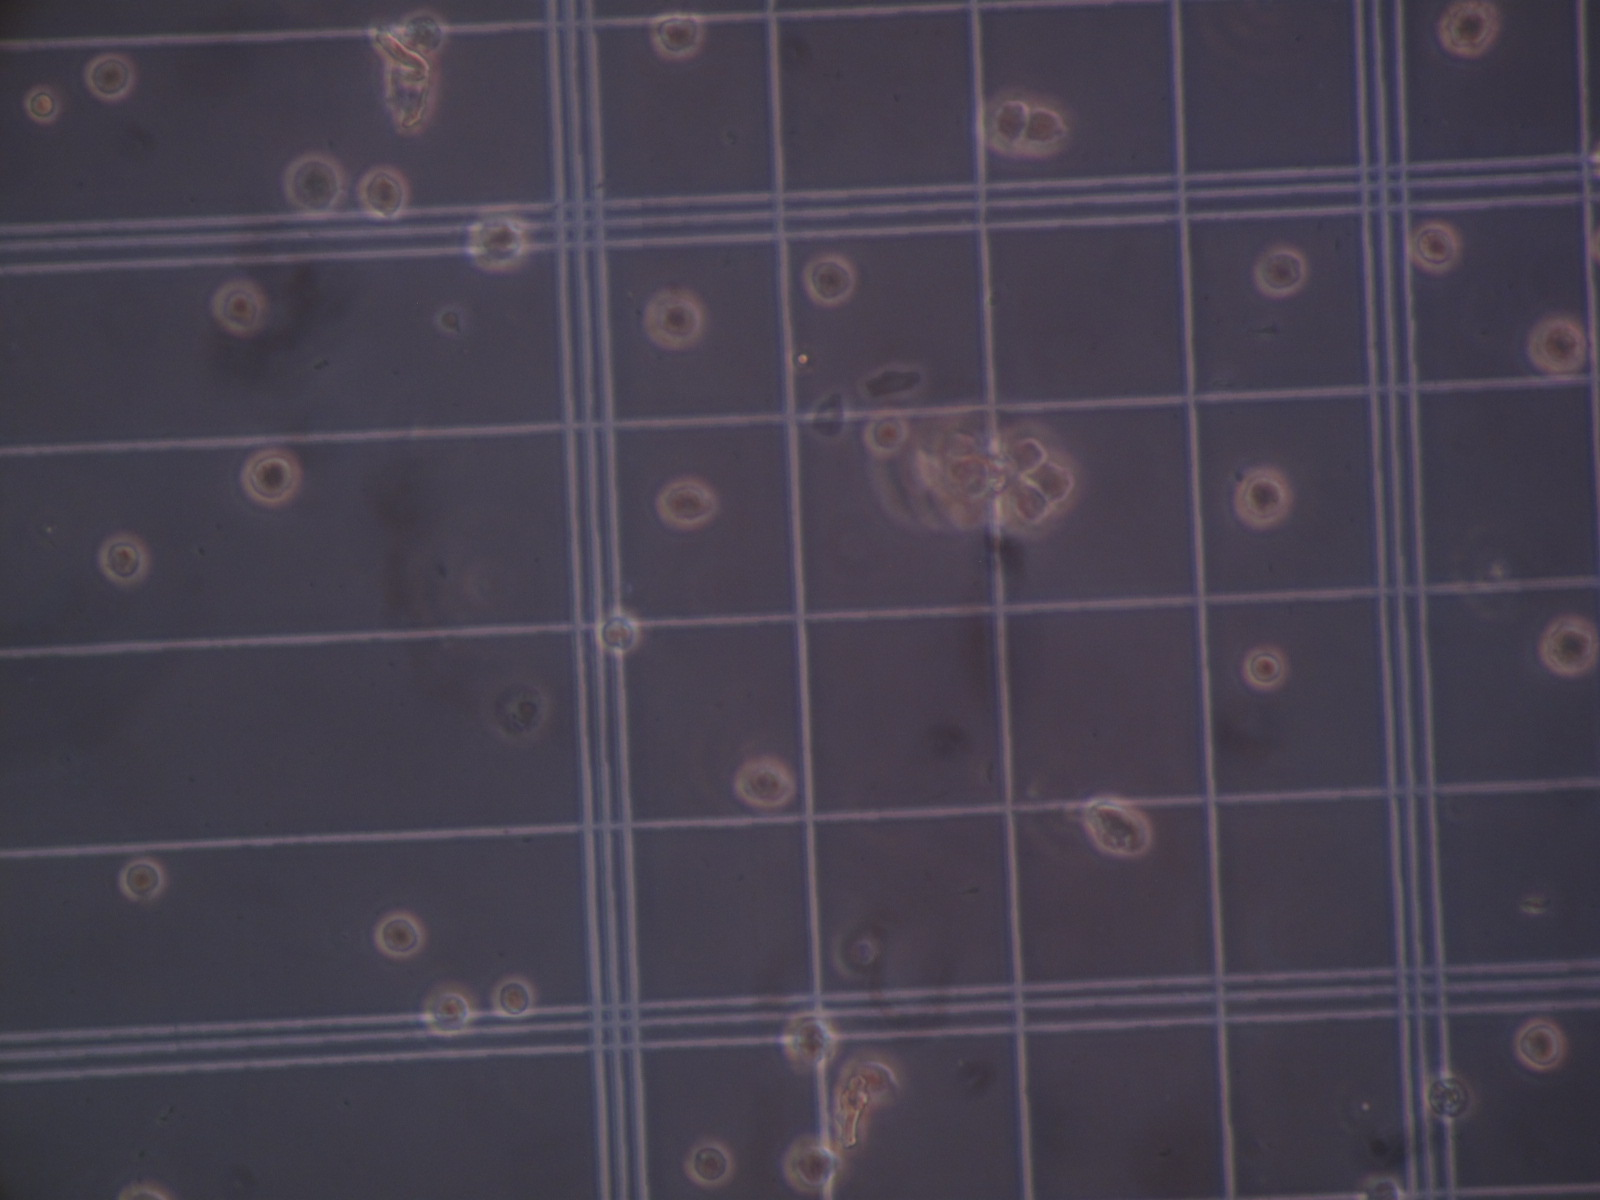hemo: (283, 150, 346, 221), (1082, 800, 1153, 858), (464, 209, 528, 271), (1233, 465, 1293, 531), (646, 289, 706, 350), (1540, 616, 1597, 679), (784, 1134, 844, 1194), (1437, 1, 1499, 59), (1526, 316, 1587, 374), (242, 447, 304, 504), (210, 280, 268, 338), (999, 482, 1057, 538), (980, 87, 1027, 155), (656, 474, 716, 527), (734, 758, 797, 805), (423, 982, 477, 1037), (1513, 1016, 1567, 1070), (782, 1013, 837, 1068), (1421, 1069, 1477, 1122), (1002, 422, 1054, 478), (1023, 101, 1073, 159), (358, 163, 406, 223), (1037, 453, 1083, 514), (1254, 245, 1308, 297), (803, 252, 857, 305), (98, 532, 152, 585), (1410, 219, 1460, 276), (396, 9, 449, 62), (84, 53, 135, 103), (651, 13, 708, 57), (375, 913, 426, 961), (863, 410, 910, 458), (1241, 644, 1288, 689), (687, 1141, 734, 1185), (120, 858, 164, 901), (491, 976, 535, 1018), (597, 613, 641, 653), (25, 84, 60, 125), (1356, 1176, 1409, 1200)
